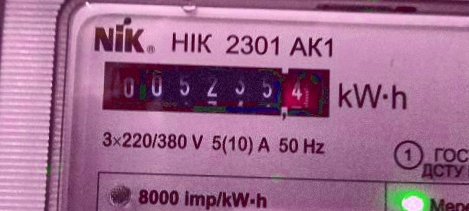0: (119, 73, 136, 100), (148, 72, 163, 97)
2: (203, 72, 218, 97)
3: (231, 71, 246, 96)
4: (288, 76, 304, 102)
5: (175, 71, 191, 98), (258, 72, 274, 99)
screen: (92, 52, 341, 126)
